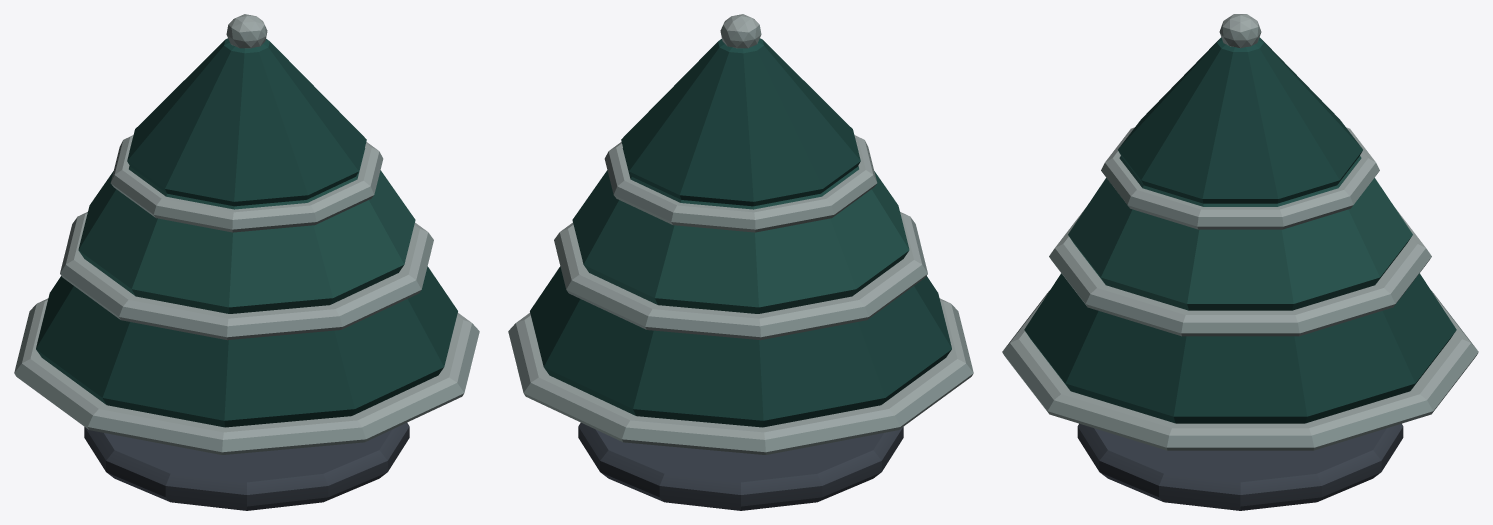
File: ash-pine.glb
The picture shows the model from 3 angles, left to right: view 1: azimuth 30°, elevation 25°; view 2: azimuth 150°, elevation 25°; view 3: azimuth 270°, elevation 25°; orthographic projection.
Parts seen in each view (by area): view 1: mesh_ash_pine; view 2: mesh_ash_pine; view 3: mesh_ash_pine.
Boxes of the visible parts, <box> form: mesh_ash_pine: <box>14,14,479,510</box>; mesh_ash_pine: <box>508,14,973,510</box>; mesh_ash_pine: <box>1002,14,1478,510</box>.
Bounding box in the file's own units: 1.73 × 1.81 × 1.81.
